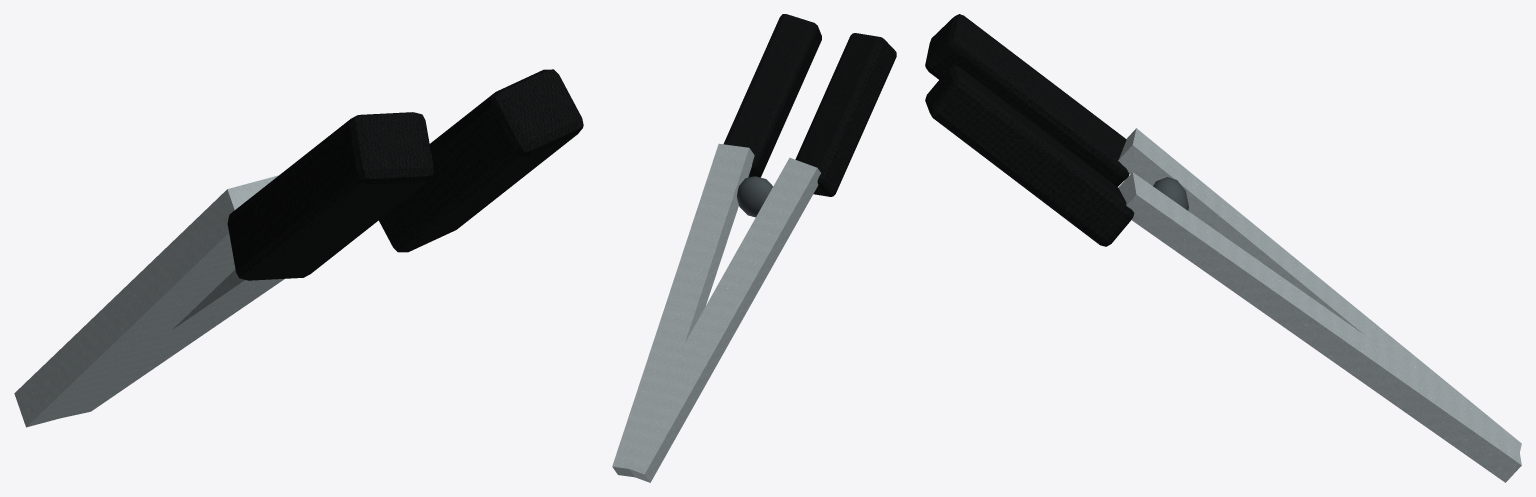
File: GardenShears.gltf
3 views of the same model, side by side, from view 1: azimuth 30°, elevation 25°; view 2: azimuth 150°, elevation 25°; view 3: azimuth 270°, elevation 25° (orthographic). The views are drawn at different scales.
Parts seen in each view (by area): view 1: GardenShears__Body; view 2: GardenShears__Body; view 3: GardenShears__Body.
Boxes of the visible parts, bbox=[...] form: GardenShears__Body: bbox=[14, 69, 583, 427]; GardenShears__Body: bbox=[612, 14, 896, 482]; GardenShears__Body: bbox=[925, 14, 1521, 482].
Bounding box in the file's own units: 0.1383 × 0.3637 × 0.4624.
Materials: 2 (1 with a texture image).
